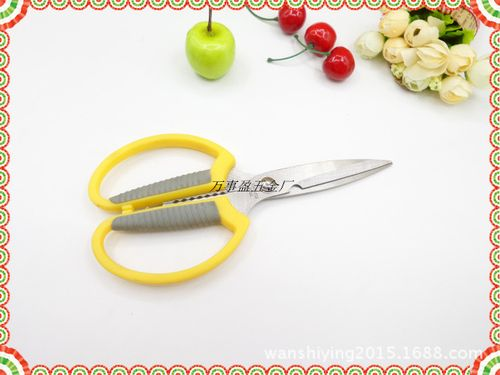scissor: (65, 131, 394, 285)
